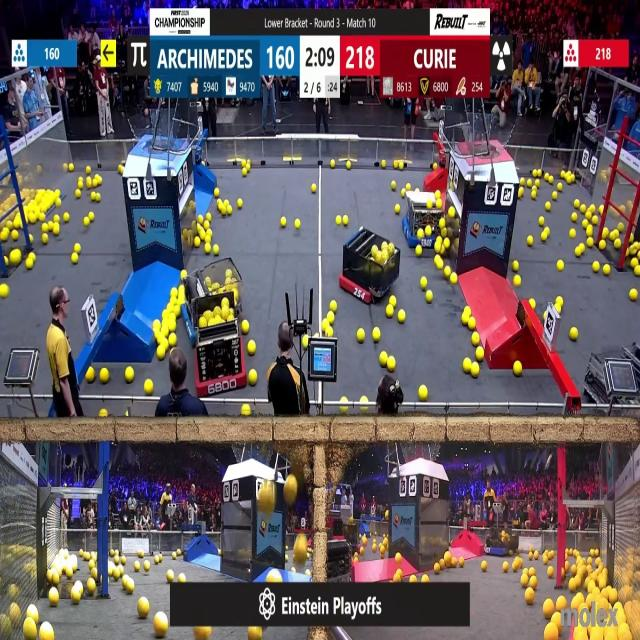ball_airborne: (260, 482, 276, 512), (284, 477, 296, 506)
ball_ground: (156, 615, 170, 638), (40, 624, 53, 640), (26, 623, 38, 640), (542, 600, 553, 618), (545, 626, 559, 640), (139, 599, 149, 618), (71, 587, 82, 604), (48, 590, 58, 608), (249, 626, 261, 640), (514, 360, 523, 376), (525, 588, 534, 604), (248, 372, 258, 386), (10, 251, 20, 265), (556, 597, 566, 611), (126, 580, 136, 594), (419, 385, 428, 400), (144, 380, 153, 394), (387, 356, 395, 371), (101, 367, 109, 382), (89, 580, 97, 595), (88, 367, 96, 381), (126, 367, 134, 381), (474, 348, 482, 362), (470, 362, 478, 376), (380, 352, 388, 366), (568, 579, 576, 593), (242, 406, 251, 418), (248, 342, 256, 355), (242, 320, 250, 333), (434, 255, 442, 268), (357, 328, 364, 342), (463, 358, 470, 372), (0, 285, 8, 297), (470, 334, 478, 346), (169, 335, 177, 347), (630, 288, 638, 300), (158, 347, 166, 359), (529, 575, 537, 587), (394, 569, 402, 581), (1, 230, 9, 242), (553, 615, 561, 627), (571, 598, 579, 610), (570, 327, 577, 340), (374, 328, 381, 341), (522, 574, 529, 587), (420, 278, 428, 289), (514, 559, 522, 570), (12, 217, 20, 228), (397, 311, 404, 323), (387, 306, 394, 318), (168, 570, 175, 582), (327, 312, 334, 324), (212, 245, 220, 255), (204, 244, 212, 254), (566, 174, 574, 184), (274, 572, 282, 582), (603, 266, 610, 277), (329, 302, 336, 313), (54, 224, 61, 235), (463, 307, 470, 318), (170, 321, 177, 332), (445, 268, 452, 279), (205, 232, 212, 243), (434, 243, 441, 254), (426, 290, 432, 302), (303, 337, 309, 349), (468, 318, 474, 330), (515, 276, 522, 286), (27, 261, 34, 271), (179, 572, 186, 582), (546, 567, 553, 577), (451, 274, 458, 284), (11, 231, 18, 241), (587, 225, 594, 235), (599, 240, 606, 250), (41, 222, 48, 232), (92, 568, 99, 578), (389, 295, 396, 305), (540, 232, 547, 242), (114, 568, 121, 578), (39, 212, 46, 222), (67, 568, 74, 578), (607, 231, 614, 241), (594, 263, 600, 274), (395, 554, 401, 565), (574, 246, 580, 257), (100, 411, 108, 419), (422, 574, 429, 583), (153, 319, 160, 328), (72, 253, 78, 263), (482, 561, 488, 571), (538, 216, 544, 226), (514, 263, 520, 273), (280, 217, 286, 227), (42, 235, 48, 245), (544, 202, 550, 212), (558, 262, 564, 272), (528, 237, 534, 247), (416, 246, 422, 256), (193, 238, 199, 248), (337, 215, 343, 225), (502, 562, 508, 572), (74, 244, 80, 254), (557, 295, 563, 305), (343, 216, 349, 226), (632, 257, 638, 267), (214, 187, 220, 197), (144, 562, 150, 572), (134, 562, 140, 572), (92, 190, 98, 200), (602, 230, 608, 240), (616, 240, 622, 250), (4, 255, 10, 265), (444, 239, 450, 249), (529, 298, 535, 308), (449, 208, 455, 218), (47, 222, 53, 232), (87, 178, 93, 188), (579, 204, 585, 214), (154, 329, 160, 339), (411, 574, 418, 582), (529, 567, 536, 575), (434, 563, 439, 574), (635, 267, 640, 278), (588, 239, 594, 248), (64, 213, 70, 222), (180, 271, 186, 280), (108, 567, 114, 576), (172, 287, 178, 296), (321, 320, 327, 329), (592, 215, 598, 224), (217, 201, 223, 210), (90, 212, 96, 221), (238, 200, 244, 209), (28, 235, 34, 244), (519, 187, 525, 196), (452, 558, 458, 567), (178, 295, 184, 304), (435, 201, 441, 210), (78, 179, 84, 188), (159, 555, 165, 564), (327, 326, 332, 336), (175, 306, 180, 316), (75, 189, 81, 197), (570, 231, 576, 239), (226, 207, 232, 215), (571, 213, 577, 221), (83, 218, 89, 226), (178, 286, 184, 294), (242, 169, 248, 177), (120, 164, 126, 172), (57, 200, 63, 208), (544, 175, 550, 183), (573, 200, 579, 208), (204, 220, 210, 228), (556, 182, 562, 190), (154, 556, 160, 564), (381, 162, 387, 170), (342, 408, 348, 416), (171, 296, 177, 304), (90, 560, 96, 568), (445, 553, 451, 561), (395, 205, 400, 214), (531, 189, 536, 198), (459, 558, 464, 567), (294, 219, 299, 228), (391, 181, 396, 190), (97, 177, 102, 186), (441, 246, 446, 255), (536, 553, 541, 562), (172, 553, 178, 560), (55, 215, 61, 222), (206, 213, 212, 220), (560, 172, 566, 179), (360, 396, 367, 402), (553, 190, 558, 198), (527, 179, 532, 187), (85, 166, 90, 174), (408, 186, 413, 194), (398, 164, 403, 172), (200, 216, 205, 224), (599, 206, 604, 214), (177, 550, 182, 558), (163, 311, 168, 319), (168, 305, 173, 313), (542, 557, 547, 565), (532, 170, 537, 178), (312, 183, 316, 192), (70, 162, 74, 171), (561, 567, 565, 576), (139, 552, 145, 558), (441, 560, 445, 569), (347, 163, 352, 170), (306, 569, 311, 576), (584, 219, 589, 226), (56, 189, 61, 196), (284, 556, 289, 563), (400, 188, 404, 196), (330, 162, 334, 170), (120, 557, 124, 565), (535, 180, 539, 188), (550, 178, 554, 186), (394, 162, 398, 170), (223, 200, 227, 208), (114, 556, 118, 564), (371, 544, 376, 550), (521, 178, 525, 185), (528, 553, 532, 560), (123, 413, 128, 418), (218, 551, 222, 557), (292, 567, 296, 573), (416, 187, 420, 192)
goal: (460, 117, 518, 159), (128, 115, 186, 152)
robot_blue: (405, 200, 443, 250), (484, 526, 518, 556)
robot_red: (194, 295, 246, 397), (339, 234, 398, 303)
